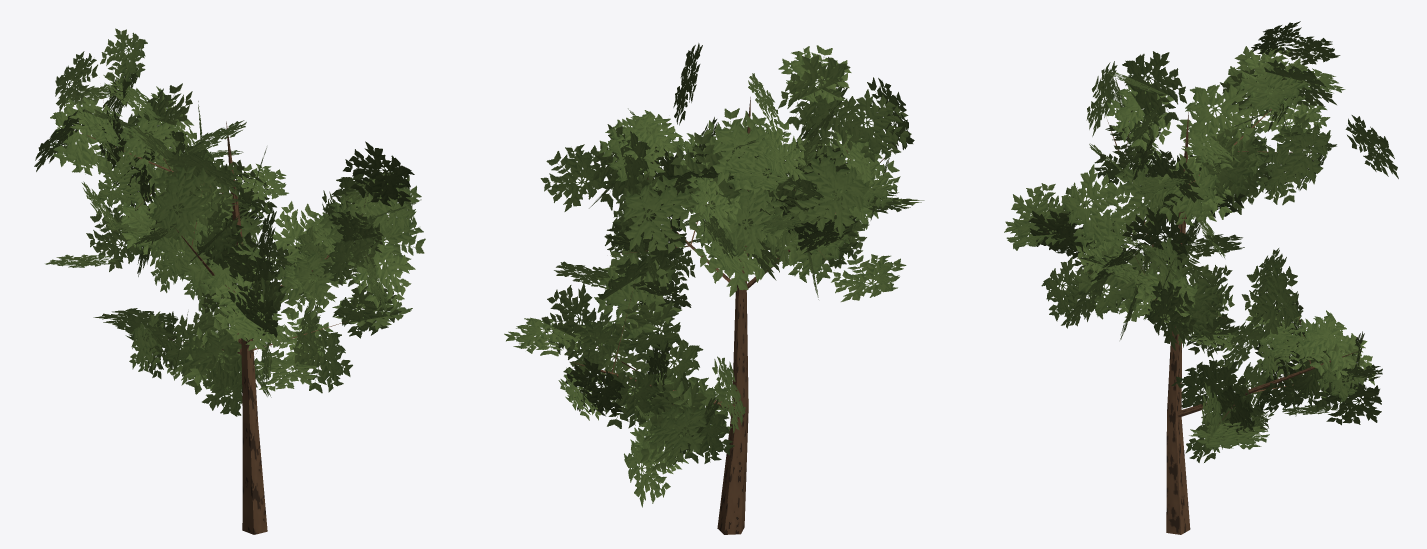
The model's file is forest-oak-b.obj.
3 renders of one model, left to right at view 1: azimuth 30°, elevation 25°; view 2: azimuth 150°, elevation 25°; view 3: azimuth 270°, elevation 25°, orthographic. The views are drawn at different scales.
Size of the model in its own units: 6.69 by 8.05 by 6.5.
Materials: 2 (2 with a texture image).
